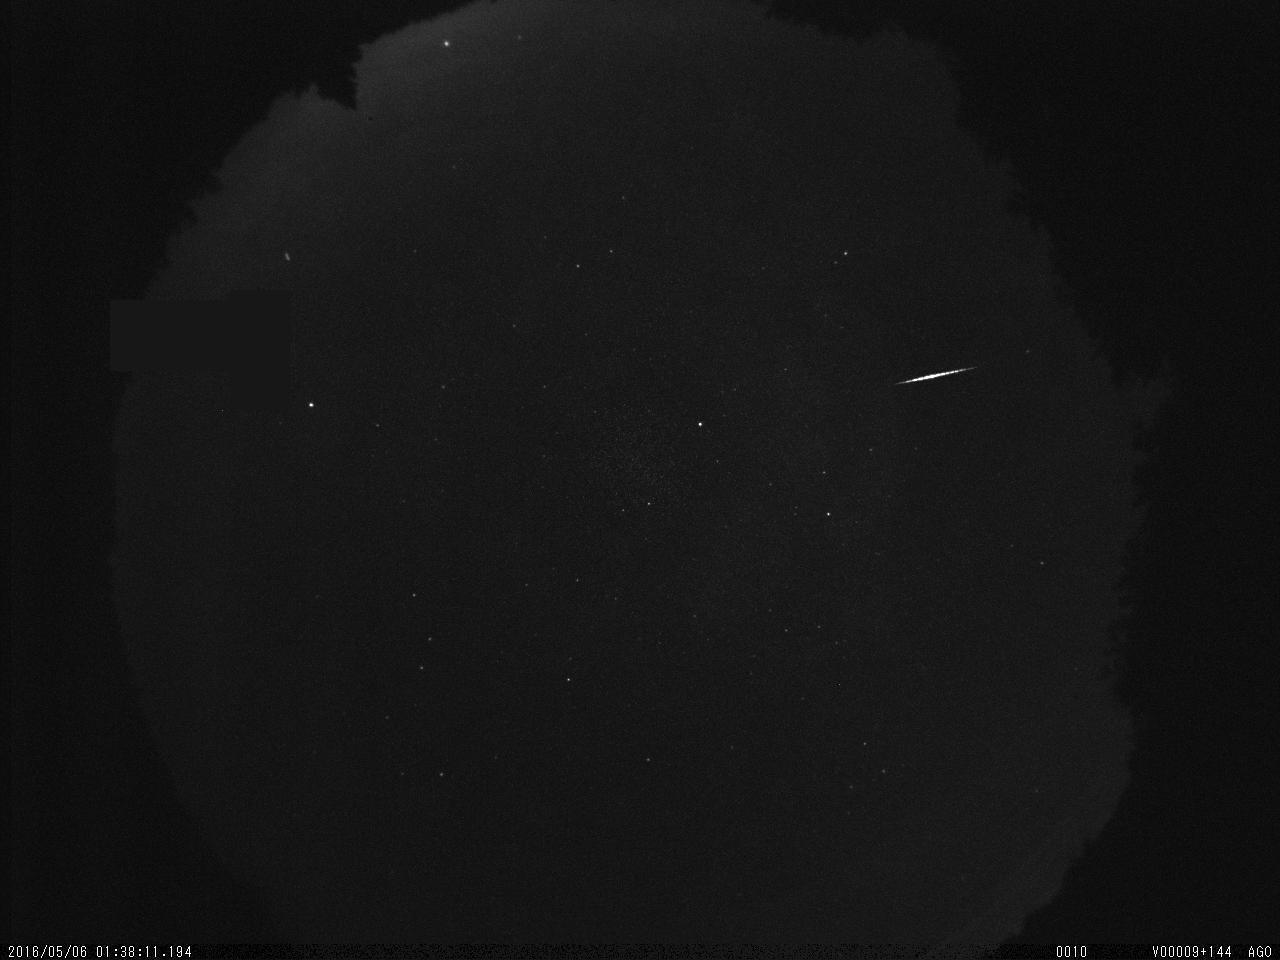meteor: (882, 353, 998, 399)
